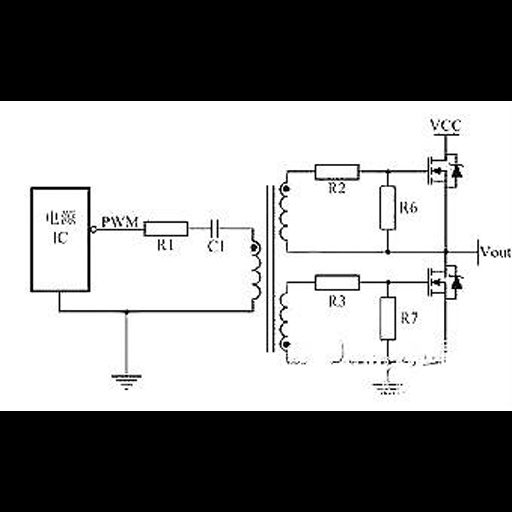capacitor: (206, 218, 224, 239)
firstresistance: (311, 158, 364, 182), (377, 181, 398, 236), (376, 293, 399, 343), (313, 271, 364, 293), (143, 216, 191, 238)
gnd: (106, 373, 145, 392), (367, 382, 409, 396)
mos: (427, 264, 447, 300), (427, 154, 448, 188)
transformer: (240, 164, 299, 364)
